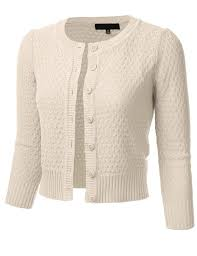S_cardigan sweater: (10, 19, 196, 216)
